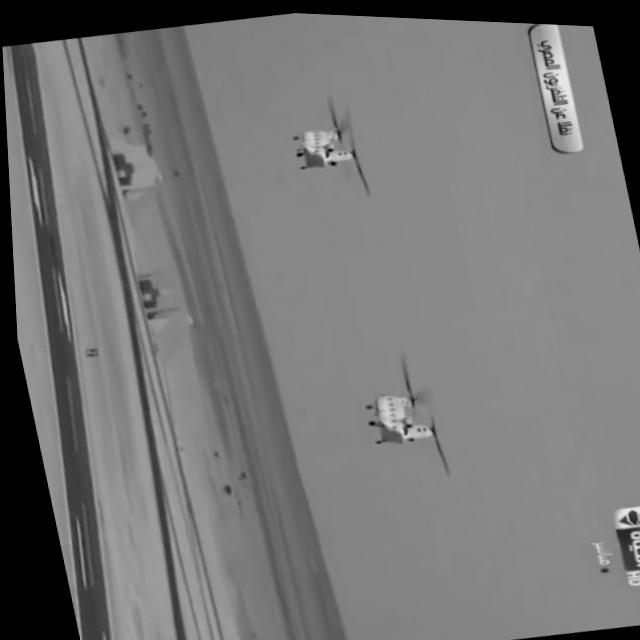helikopter: (334, 338, 468, 477), (270, 85, 396, 200)
